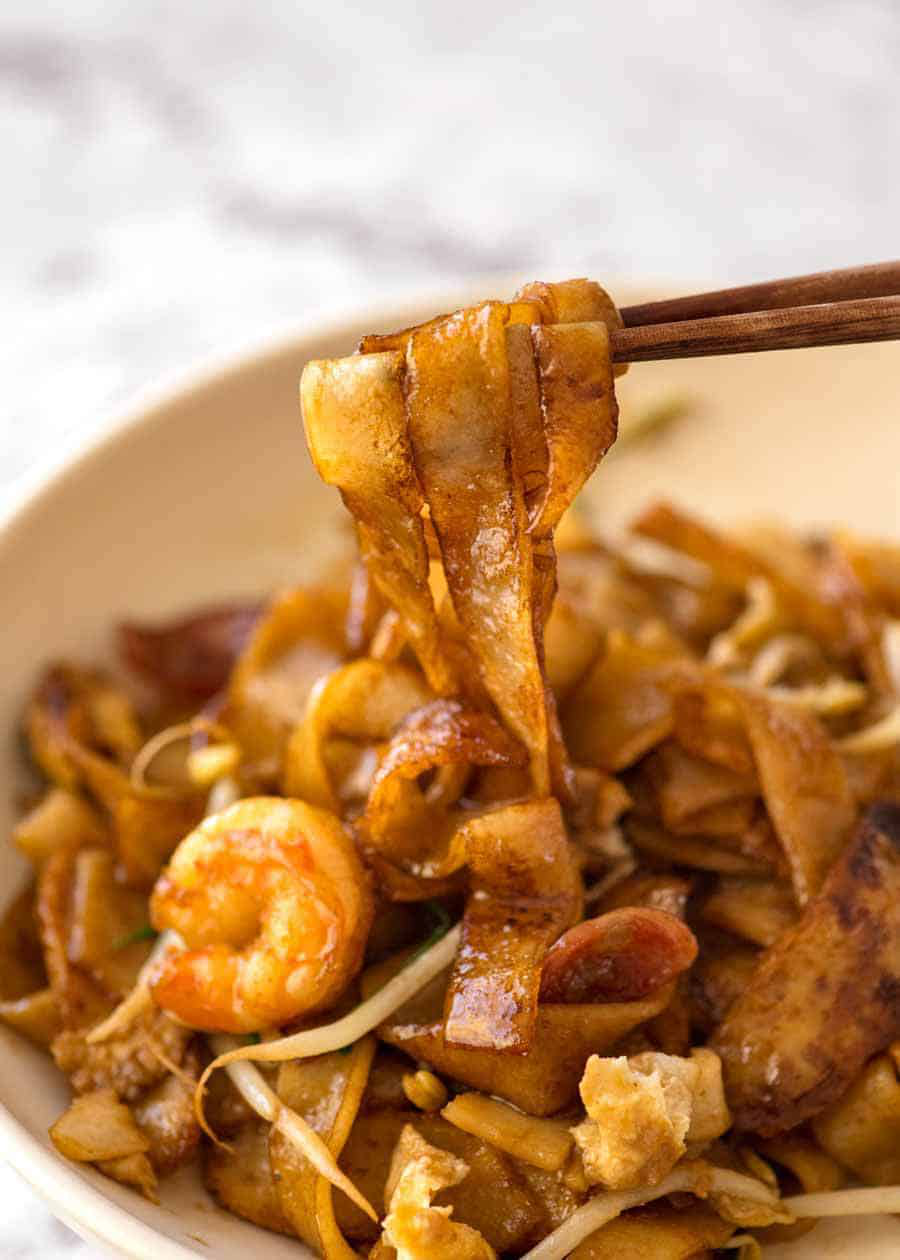Char Kway Teow: (59, 448, 899, 1237)
